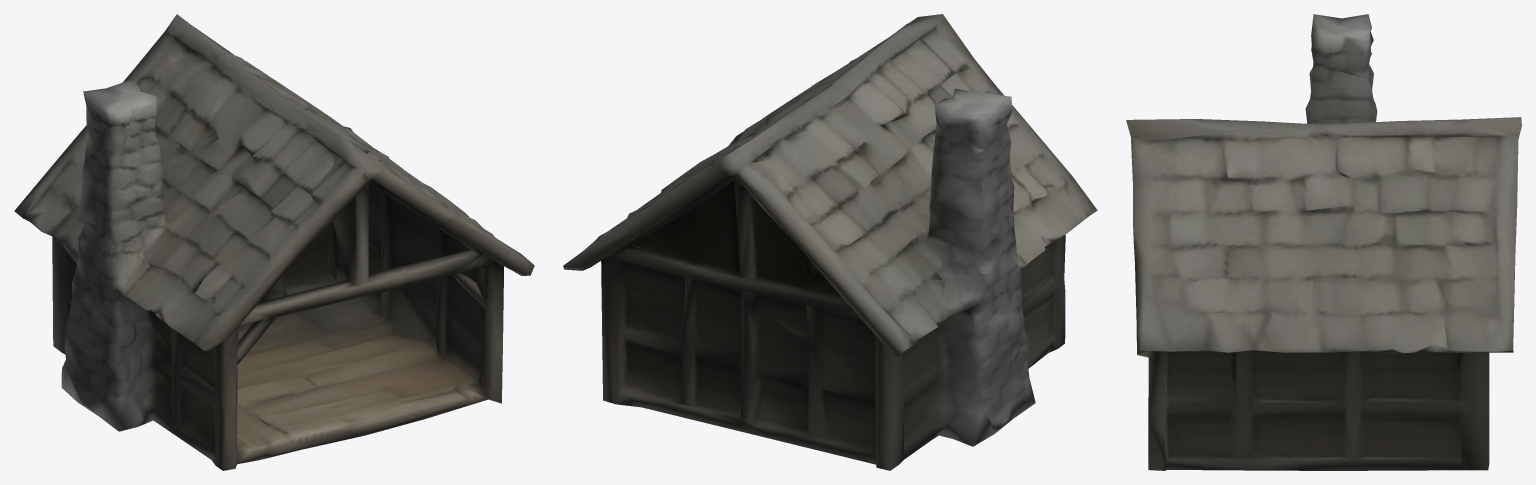
The model's file is forge.glb.
3 renders of one model, left to right at view 1: azimuth 30°, elevation 25°; view 2: azimuth 150°, elevation 25°; view 3: azimuth 270°, elevation 25°, orthographic. The views are drawn at different scales.
Visible parts, largest first — view 1: tripo_node_ec3ac97b-94f4-46db-8622-98dc81c466f4; view 2: tripo_node_ec3ac97b-94f4-46db-8622-98dc81c466f4; view 3: tripo_node_ec3ac97b-94f4-46db-8622-98dc81c466f4.
Part boxes in pixels (x1,y1,x2,y2): tripo_node_ec3ac97b-94f4-46db-8622-98dc81c466f4: (14, 14, 534, 470); tripo_node_ec3ac97b-94f4-46db-8622-98dc81c466f4: (563, 14, 1097, 470); tripo_node_ec3ac97b-94f4-46db-8622-98dc81c466f4: (1126, 14, 1521, 470).
Bounding box in the file's own units: 1 × 0.8331 × 0.9745.
1 material, 1 textured.
